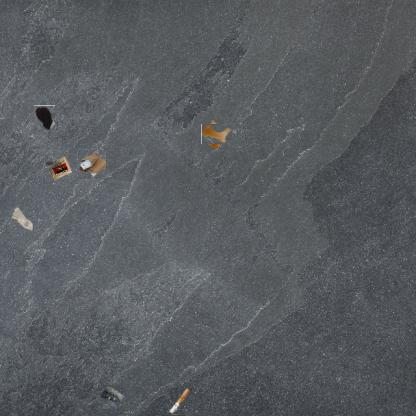dirty: (76, 150, 106, 179), (44, 154, 72, 182), (166, 387, 192, 415), (98, 385, 126, 409), (9, 207, 33, 231)
liquid: (204, 122, 230, 147), (33, 105, 55, 130)
